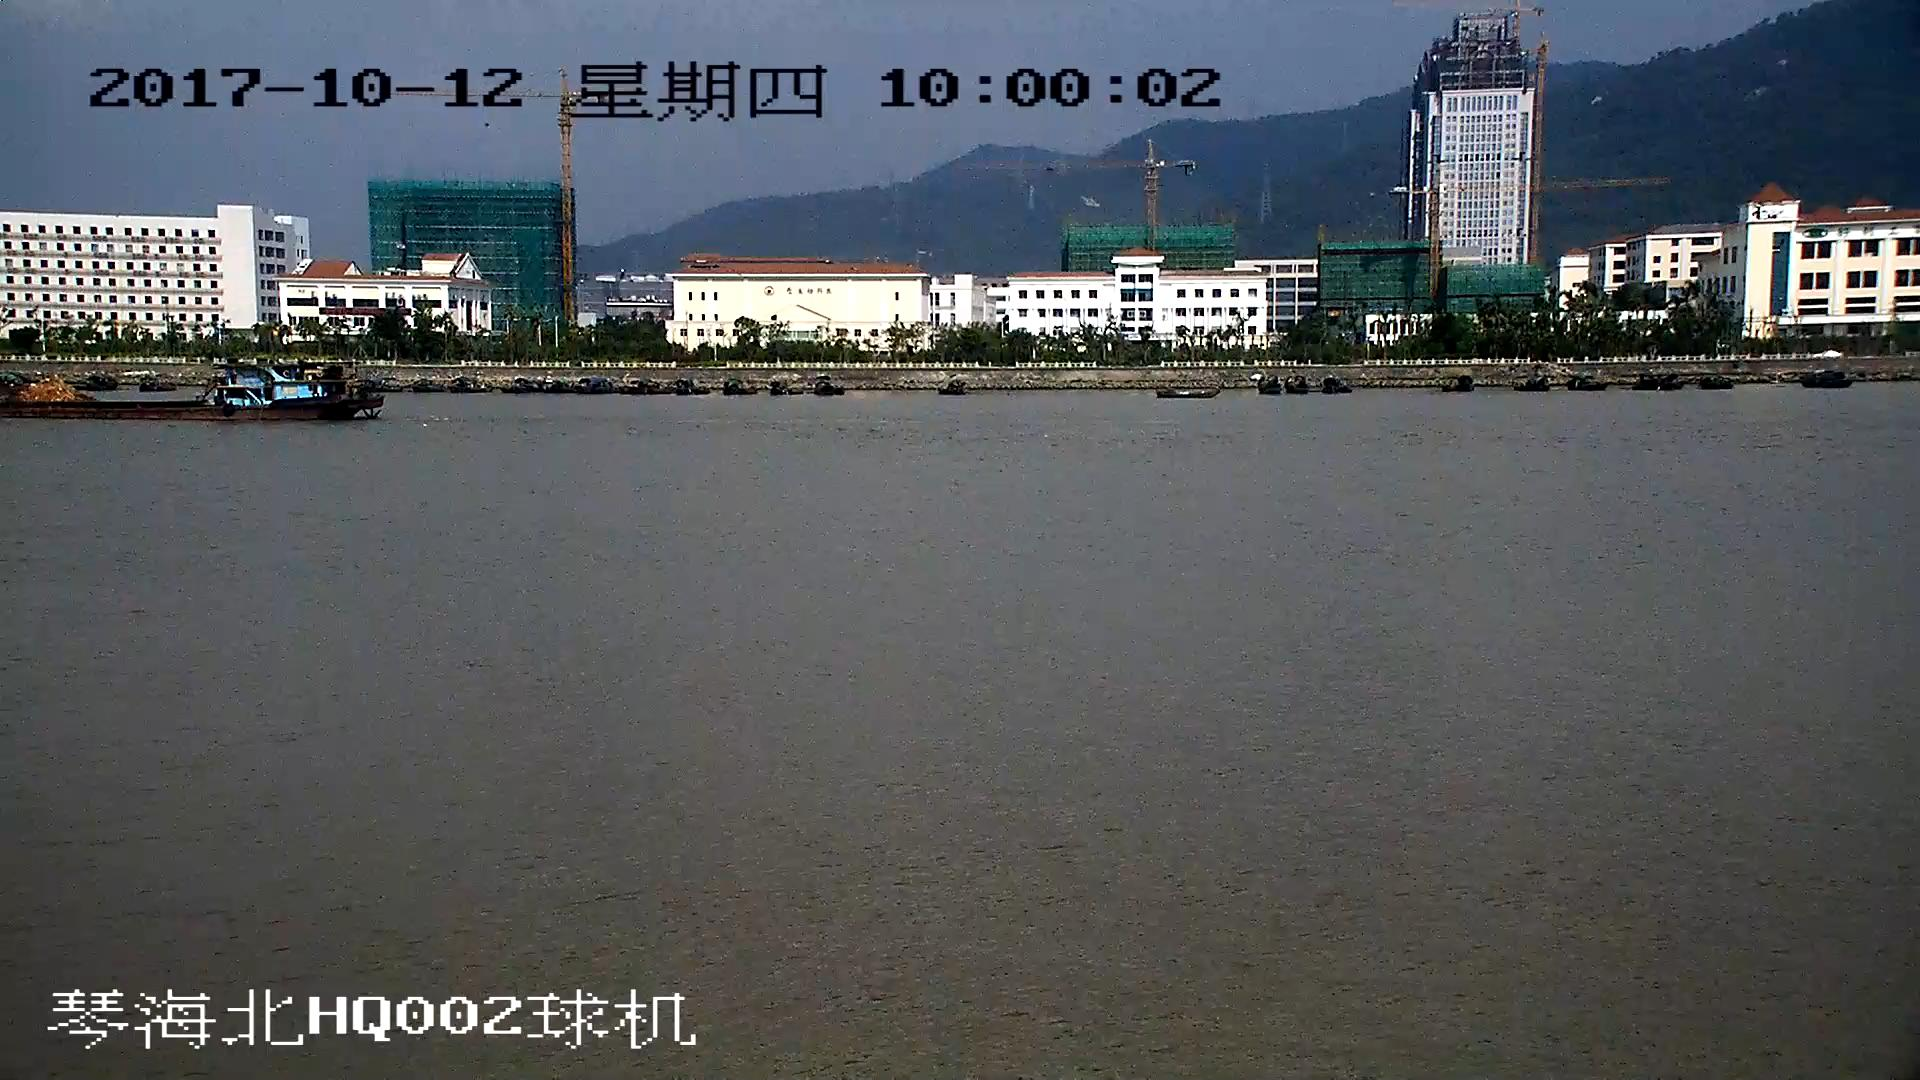ore carrier: (1, 359, 379, 422)
